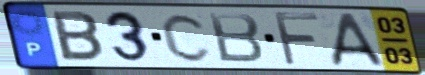3: (103, 8, 156, 65)
A: (330, 11, 388, 68)
B: (206, 11, 267, 65), (49, 9, 106, 64)
C: (159, 11, 215, 64)
F: (271, 10, 323, 68)
